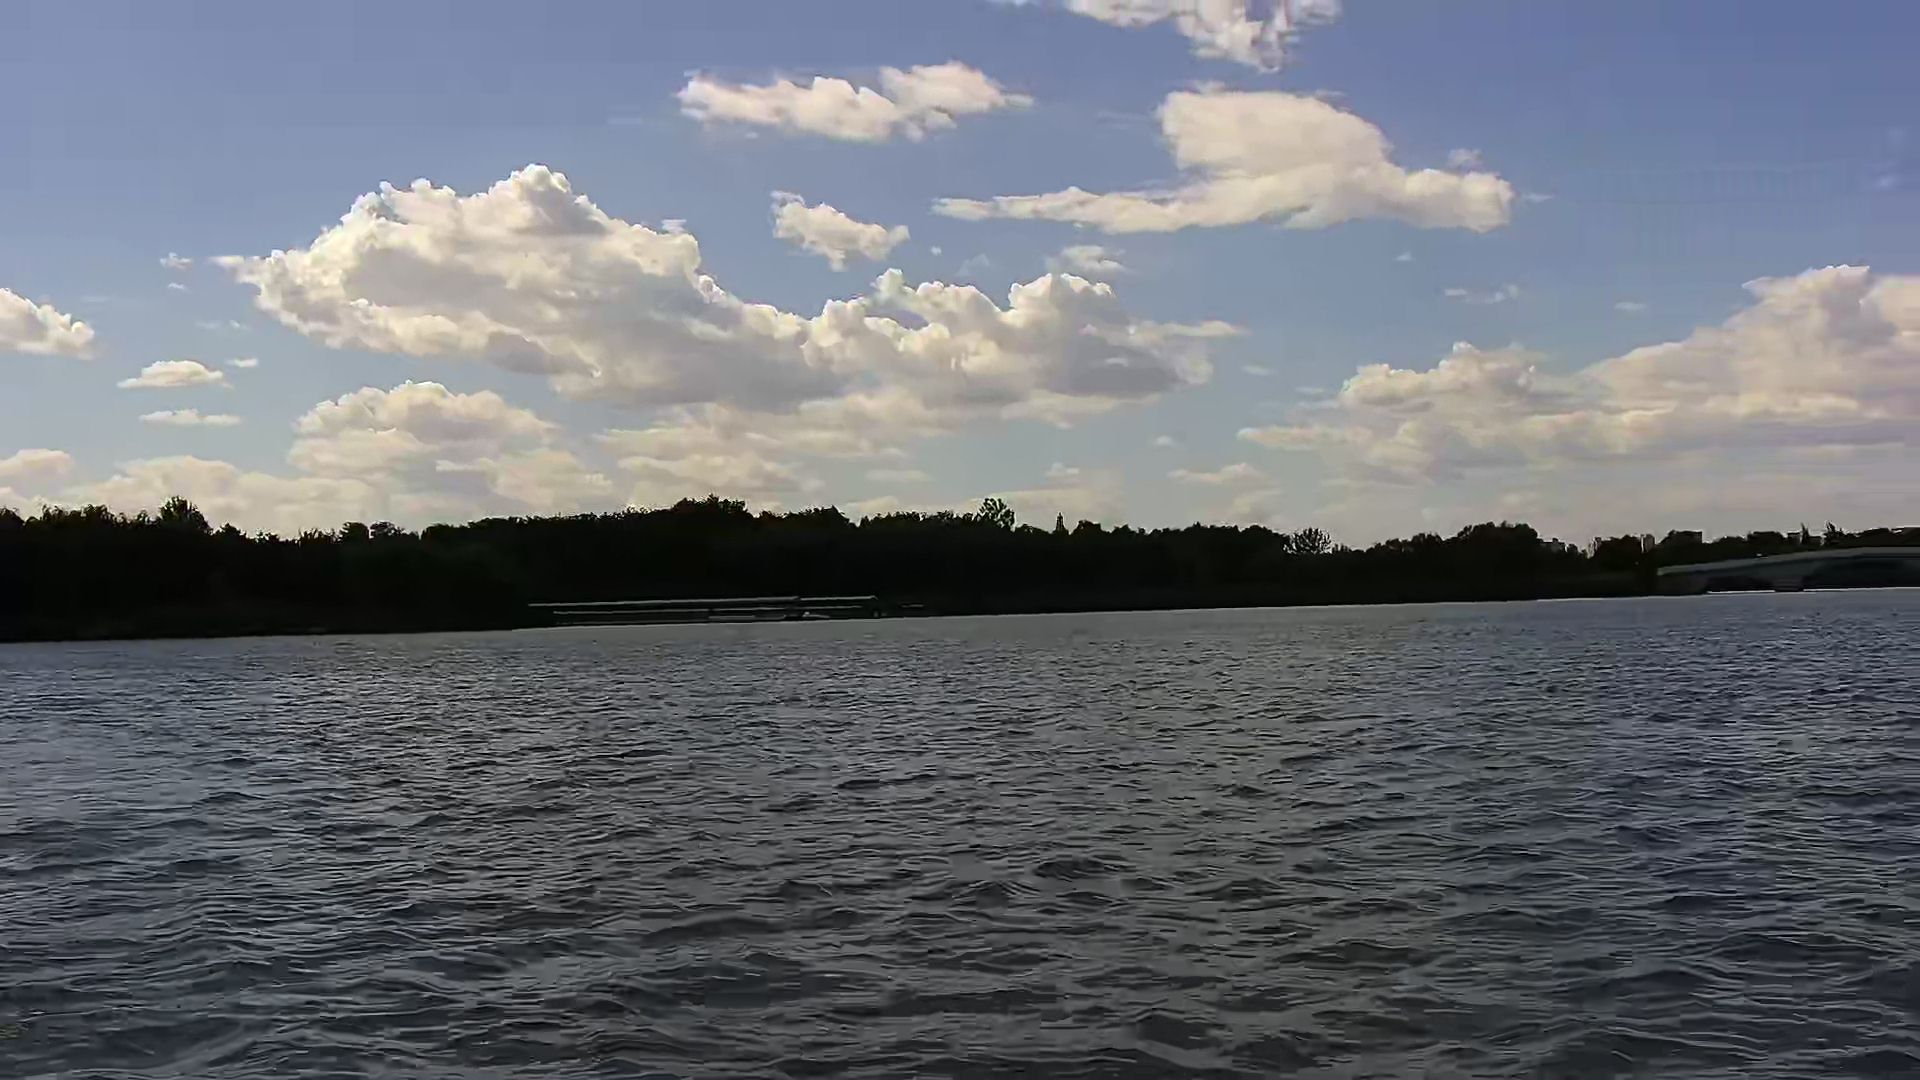bridge: (1658, 549, 1920, 592), (531, 597, 873, 622)
